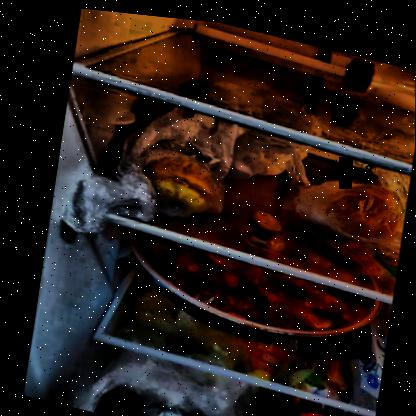lemon: (135, 145, 221, 212), (330, 170, 406, 234)
